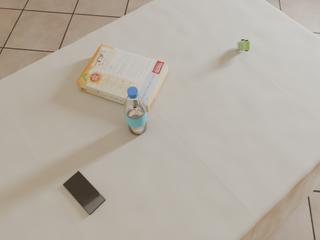bottle: (124, 86, 147, 135)
box: (77, 44, 168, 112)
phone: (63, 171, 105, 215)
toy_car: (237, 39, 249, 51)
